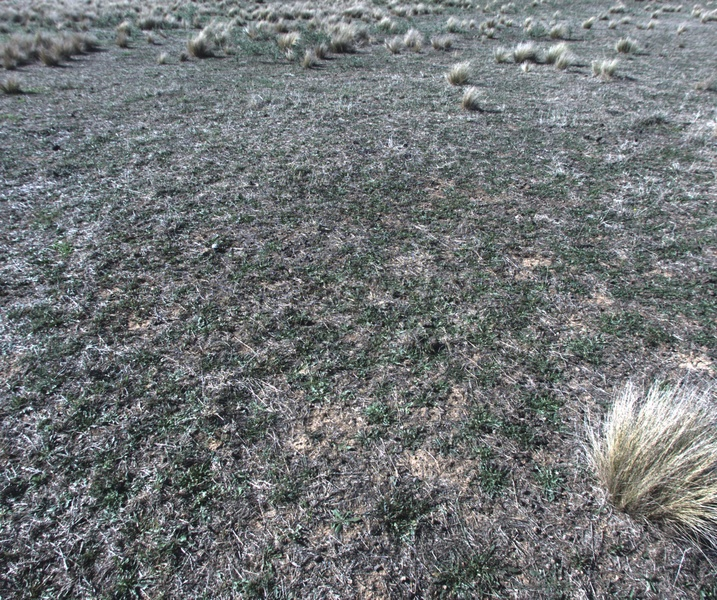st: (580, 376, 717, 531), (442, 57, 474, 85), (1, 35, 25, 69), (185, 31, 212, 60), (49, 36, 80, 59), (462, 85, 486, 114), (590, 59, 620, 82), (325, 30, 353, 54), (245, 19, 272, 42), (383, 34, 407, 56), (513, 42, 536, 61), (542, 41, 565, 60), (276, 29, 300, 46), (613, 37, 637, 54), (114, 27, 130, 51), (558, 50, 573, 74), (549, 20, 569, 38), (300, 46, 315, 69), (404, 29, 421, 49), (638, 17, 659, 33), (475, 24, 496, 40), (433, 36, 455, 51), (493, 46, 511, 64), (581, 15, 599, 33), (41, 50, 61, 65), (34, 32, 49, 51), (82, 31, 96, 49), (316, 35, 325, 63), (155, 51, 169, 65), (147, 27, 157, 46), (284, 47, 295, 63), (520, 59, 530, 76), (487, 14, 499, 28), (675, 21, 685, 35), (607, 17, 618, 29), (178, 52, 188, 62)
